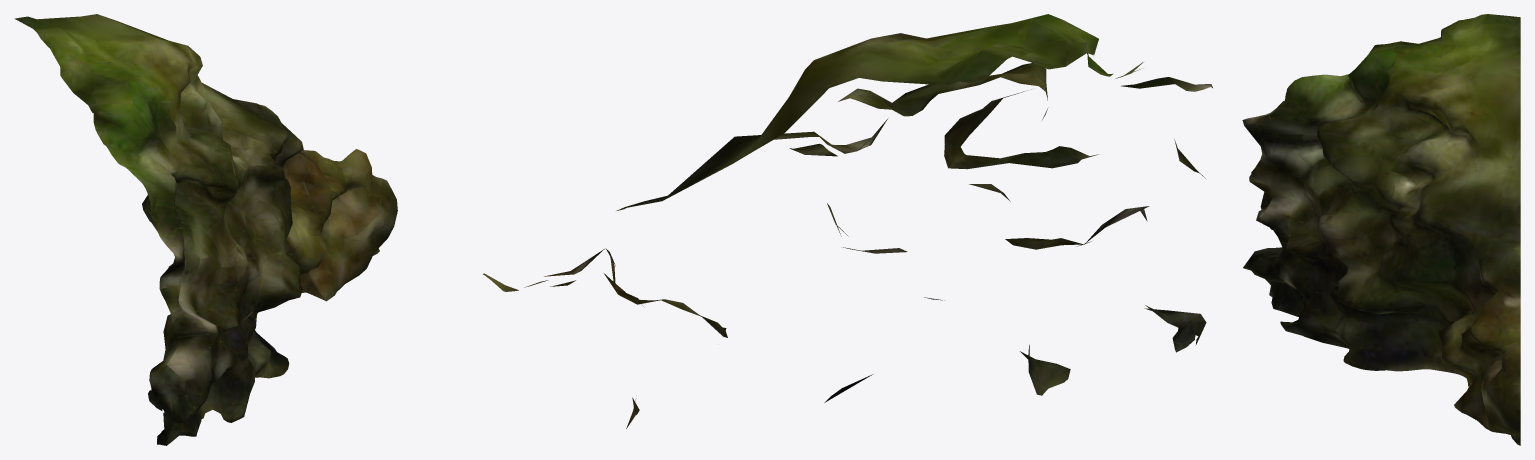
The picture shows the model from 3 angles, left to right: view 1: azimuth 30°, elevation 25°; view 2: azimuth 150°, elevation 25°; view 3: azimuth 270°, elevation 25°; orthographic projection. The views are drawn at different scales.
Bounding box in the file's own units: 0.6112 × 0.4989 × 0.4509.
Materials: 1 (1 with a texture image).
